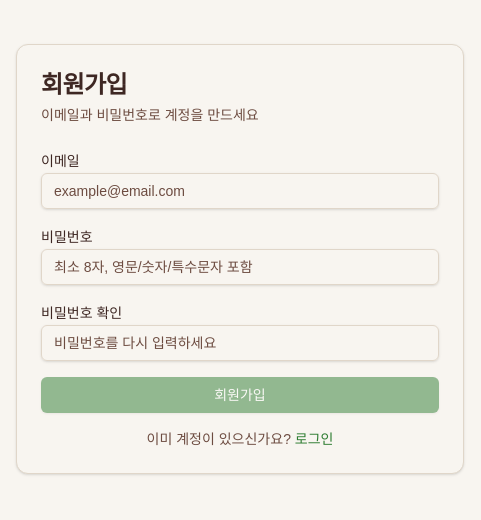
Test: SignUpPage › 비밀번호 불일치 시 에러 메시지를 표시해야 함
Step 1. Type "Test123!" into the password field labelled "비밀번호" → (240,267), box [41,249,439,285]
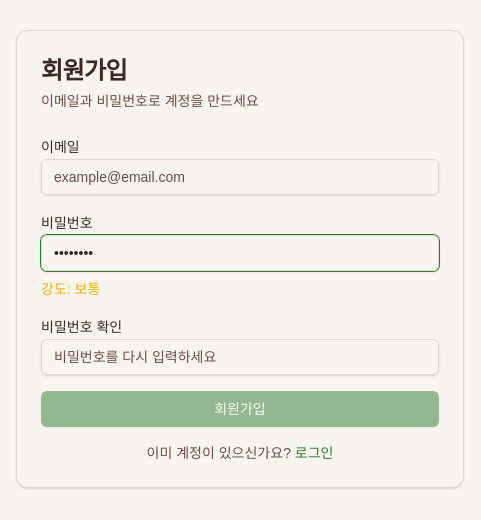
Step 2. Type "Test456!" into the password field labelled "비밀번호 확인" → (240,357), box [41,339,439,375]
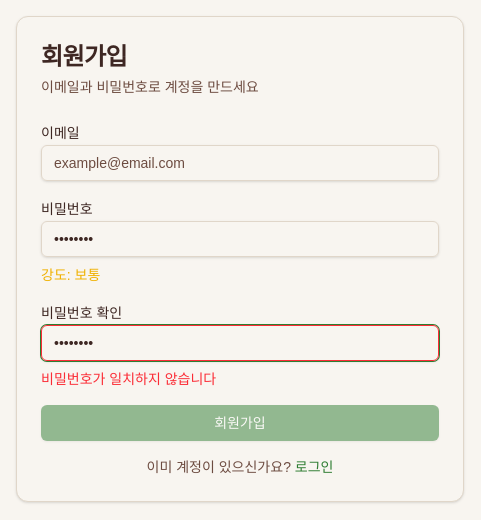
Check: the text "비밀번호가 일치하지 않습니다" is shown, box [41,371,216,387]
